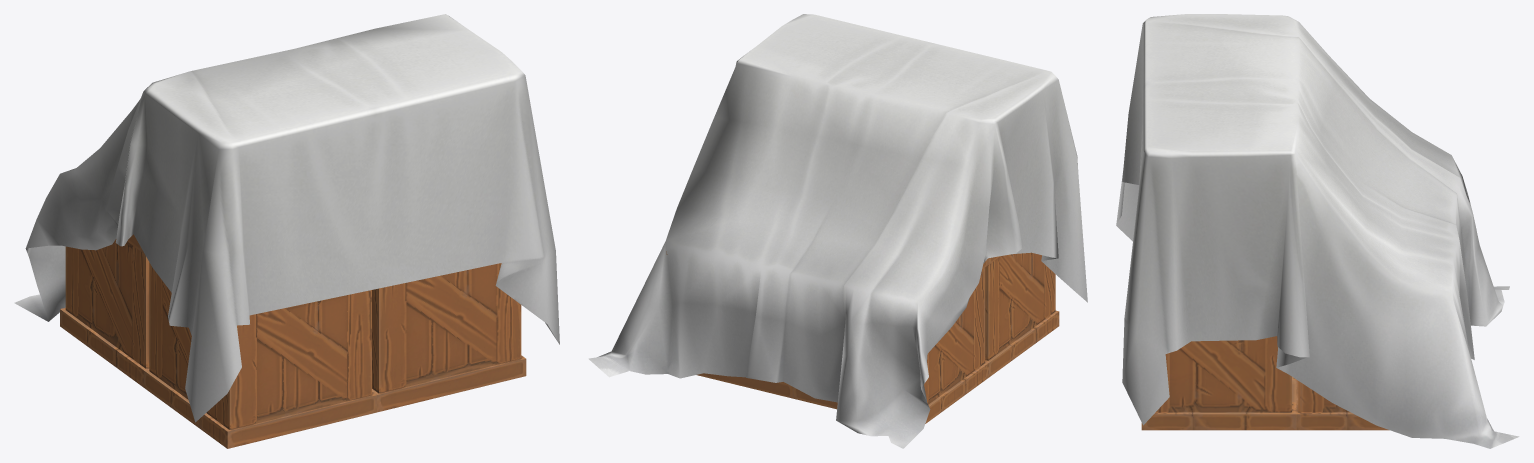
File: Pfb_Box_GRP__5.fbx
3 renders of one model, left to right at view 1: azimuth 30°, elevation 25°; view 2: azimuth 150°, elevation 25°; view 3: azimuth 270°, elevation 25°, orthographic. The views are drawn at different scales.
Parts seen in each view (by area): view 1: MAT_Canvas_02_White, Mat_WoodBox_01_1; view 2: MAT_Canvas_02_White, Mat_WoodBox_01_1; view 3: MAT_Canvas_02_White, Mat_WoodBox_01_1.
Part boxes in pixels (x1,y1,x2,y2): MAT_Canvas_02_White: (14,14,559,422); Mat_WoodBox_01_1: (60,234,526,448); MAT_Canvas_02_White: (588,14,1087,448); Mat_WoodBox_01_1: (666,251,1059,423); MAT_Canvas_02_White: (1116,14,1519,448); Mat_WoodBox_01_1: (1141,336,1389,430).
Size of the model in its own units: 2.08 by 1.52 by 1.98.
2 materials, 2 textured.
